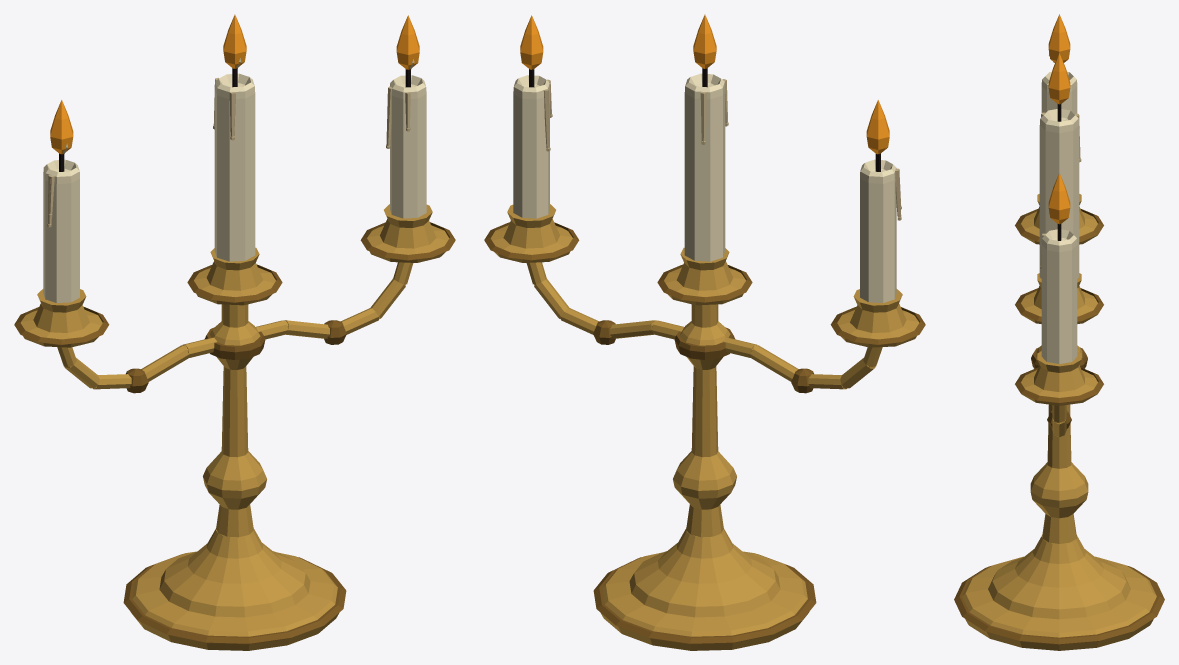
File: candelabra.obj
3 renders of one model, left to right at view 1: azimuth 30°, elevation 25°; view 2: azimuth 150°, elevation 25°; view 3: azimuth 270°, elevation 25°, orthographic. The views are drawn at different scales.
Visible parts, largest first — view 1: lathe, lathe.002, lathe.005, lathe.047, lathe.026, lathe.046, lathe.025, lathe.004, lathe.001, torus.002, torus.001, torus (+6 smaller); view 2: lathe, lathe.002, lathe.005, lathe.026, lathe.047, lathe.046, lathe.025, lathe.004, lathe.001, torus.002, lathe.052, lathe.010 (+6 smaller); view 3: lathe, lathe.047, lathe.005, lathe.002, lathe.046, lathe.001, lathe.004, lathe.025, lathe.026, torus.002, lathe.010, lathe.052 (+3 smaller).
Boxes of the visible parts, x1=… form: lathe: x1=131, y1=528, x2=338, y2=650; lathe.002: x1=203, y1=304, x2=266, y2=537; lathe.005: x1=214, y1=73, x2=255, y2=261; lathe.047: x1=390, y1=75, x2=426, y2=218; lathe.026: x1=43, y1=159, x2=79, y2=302; lathe.046: x1=367, y1=204, x2=449, y2=262; lathe.025: x1=20, y1=289, x2=102, y2=347; lathe.004: x1=194, y1=247, x2=275, y2=305; lathe.001: x1=123, y1=554, x2=346, y2=644; torus.002: x1=360, y1=222, x2=455, y2=260; torus.001: x1=14, y1=306, x2=109, y2=345; torus: x1=187, y1=264, x2=282, y2=302; lathe: x1=601, y1=528, x2=808, y2=650; lathe.002: x1=673, y1=304, x2=736, y2=537; lathe.005: x1=684, y1=73, x2=725, y2=261; lathe.026: x1=860, y1=159, x2=896, y2=302; lathe.047: x1=513, y1=75, x2=549, y2=218; lathe.046: x1=490, y1=204, x2=572, y2=262; lathe.025: x1=837, y1=289, x2=919, y2=347; lathe.004: x1=664, y1=247, x2=745, y2=305; lathe.001: x1=593, y1=554, x2=816, y2=644; torus.002: x1=484, y1=222, x2=579, y2=260; lathe.052: x1=520, y1=15, x2=543, y2=69; lathe.010: x1=693, y1=14, x2=716, y2=68; lathe: x1=962, y1=535, x2=1156, y2=650; lathe.047: x1=1041, y1=229, x2=1077, y2=363; lathe.005: x1=1039, y1=109, x2=1079, y2=278; lathe.002: x1=1030, y1=345, x2=1088, y2=543; lathe.046: x1=1021, y1=351, x2=1097, y2=405; lathe.001: x1=954, y1=565, x2=1164, y2=644; lathe.004: x1=1021, y1=273, x2=1097, y2=323; lathe.025: x1=1021, y1=194, x2=1097, y2=244; lathe.026: x1=1041, y1=71, x2=1077, y2=113; torus.002: x1=1015, y1=367, x2=1103, y2=403; lathe.010: x1=1048, y1=53, x2=1070, y2=104; lathe.052: x1=1048, y1=173, x2=1070, y2=224.
Bounding box in the file's own units: 0.52 × 0.687 × 0.236.
